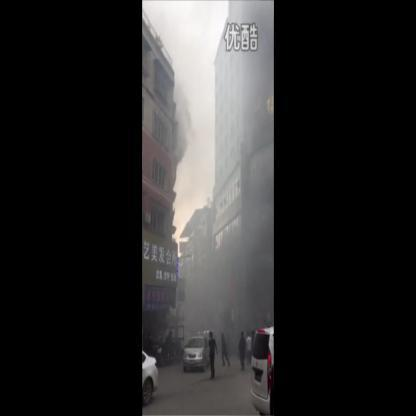smoke: (171, 78, 194, 168)
